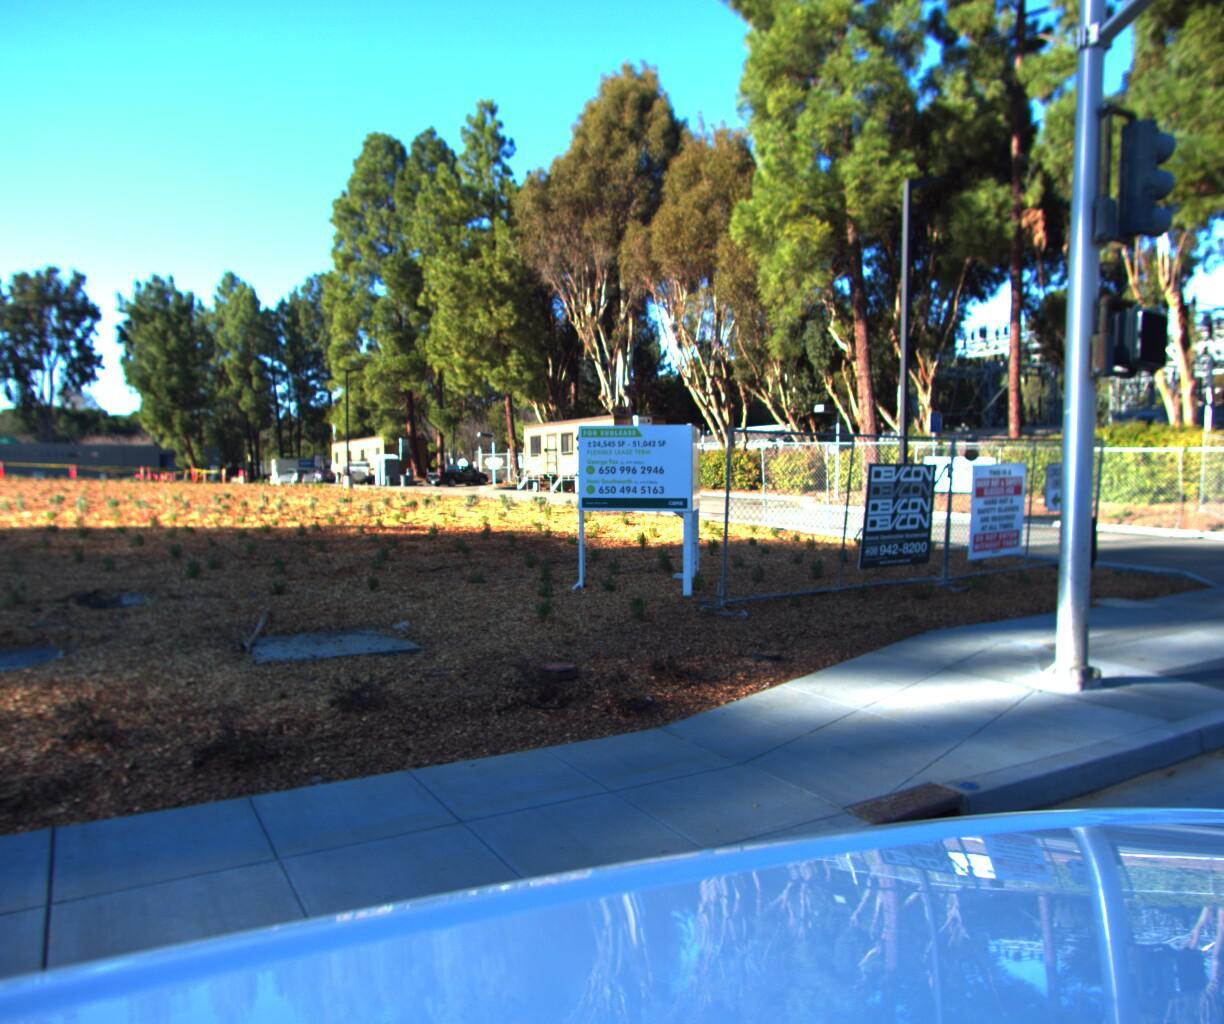car: (416, 465, 488, 491)
